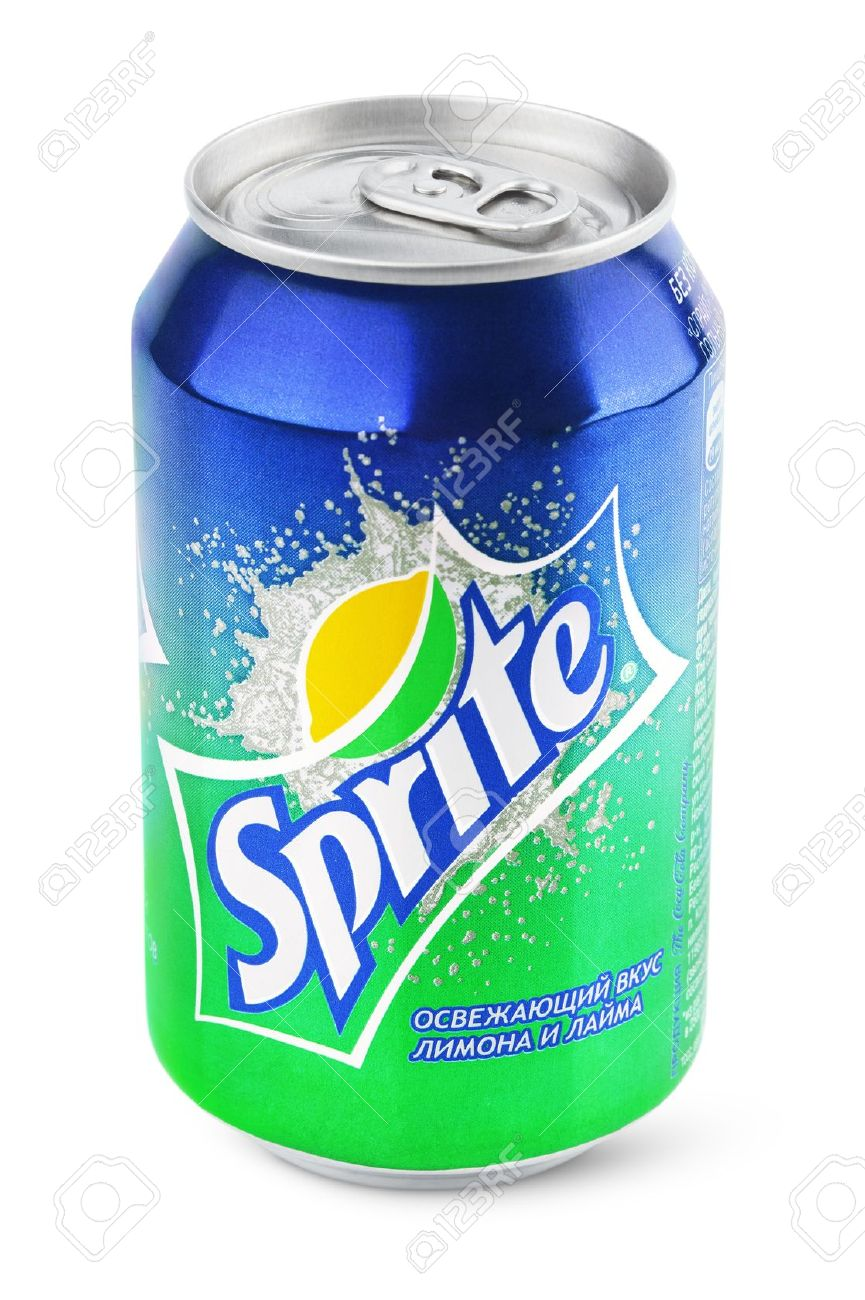sprite: (214, 594, 606, 1013), (214, 594, 606, 1003), (240, 594, 606, 1013)
